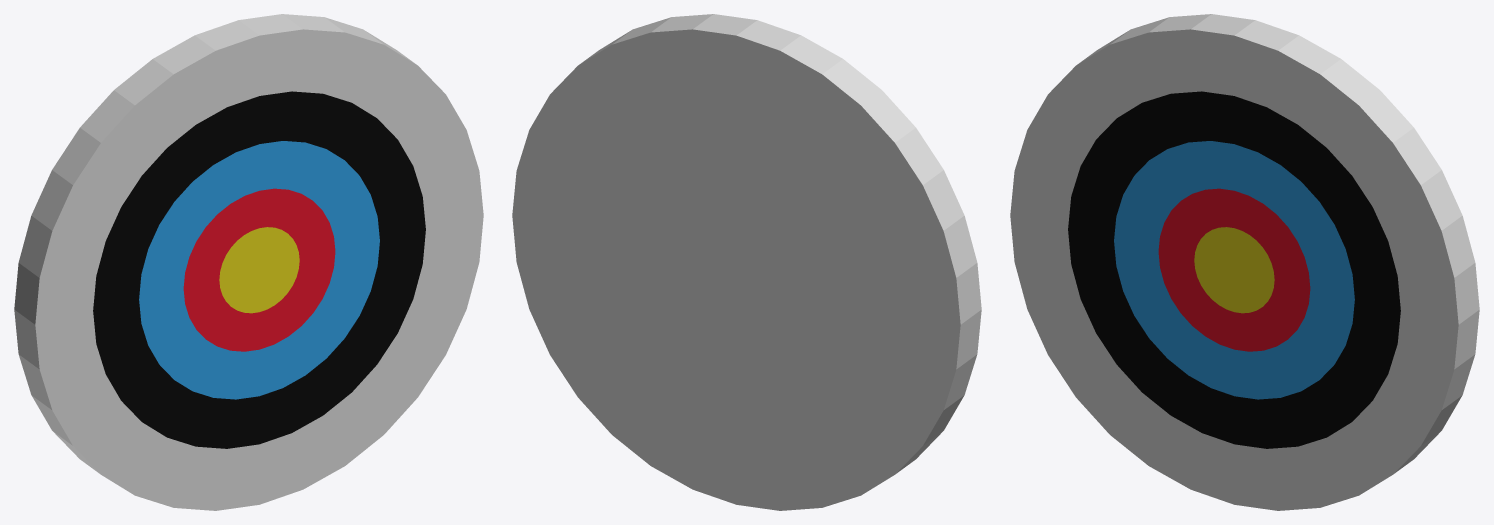
Rendered from Target.fbx.
3 renders of one model, left to right at view 1: azimuth 30°, elevation 25°; view 2: azimuth 150°, elevation 25°; view 3: azimuth 330°, elevation 25°, orthographic.
Parts seen in each view (by area): view 1: OuterRing, InnerRing, Target, Bullseye; view 2: Target; view 3: OuterRing, InnerRing, Target, Bullseye.
Part boxes in pixels (x1=…): OuterRing: x1=35, y1=29, x2=483, y2=510; InnerRing: x1=139, y1=141, x2=379, y2=399; Target: x1=14, y1=14, x2=416, y2=473; Bullseye: x1=219, y1=227, x2=299, y2=313; Target: x1=512, y1=14, x2=981, y2=510; OuterRing: x1=1010, y1=29, x2=1458, y2=510; InnerRing: x1=1114, y1=141, x2=1354, y2=399; Target: x1=1077, y1=14, x2=1479, y2=473; Bullseye: x1=1194, y1=227, x2=1274, y2=313.
Bounding box in the file's own units: 230 × 230 × 18.72.
